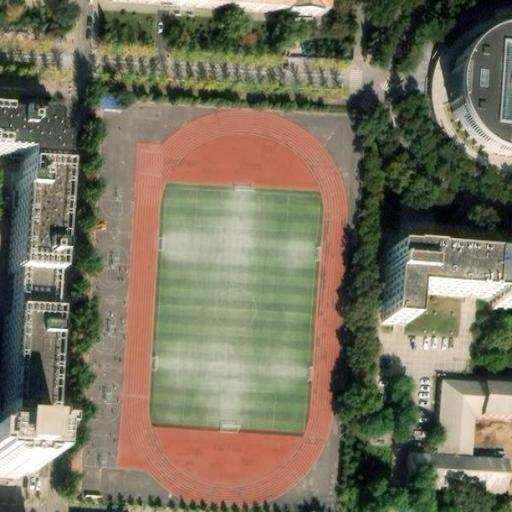building: (378, 247, 479, 326), (465, 17, 512, 144), (440, 381, 512, 454), (406, 450, 509, 489), (476, 254, 512, 309)
